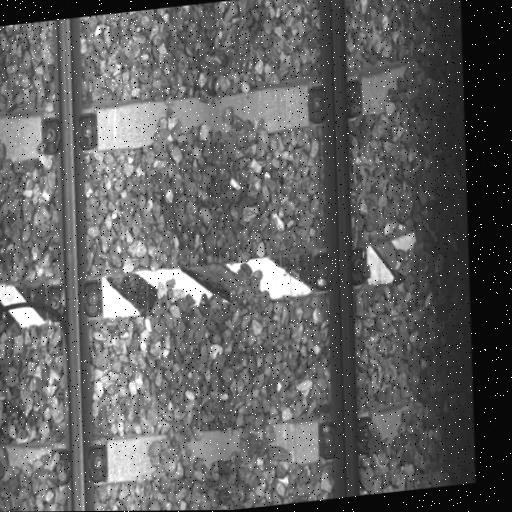clips: (36, 109, 101, 156), (43, 278, 105, 324), (304, 78, 365, 122), (315, 413, 375, 455), (49, 444, 109, 483), (311, 248, 370, 287)
sleepers: (0, 55, 424, 178), (0, 223, 431, 342), (0, 392, 436, 507)
